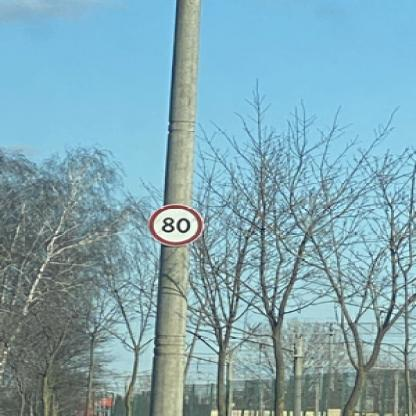Speed Limit 80: (154, 204, 202, 246)
